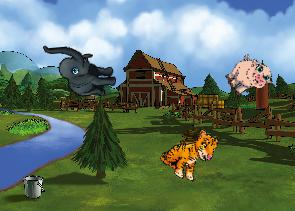elephant: (43, 39, 117, 100)
pig: (220, 49, 276, 104)
tiger: (156, 118, 222, 187)
